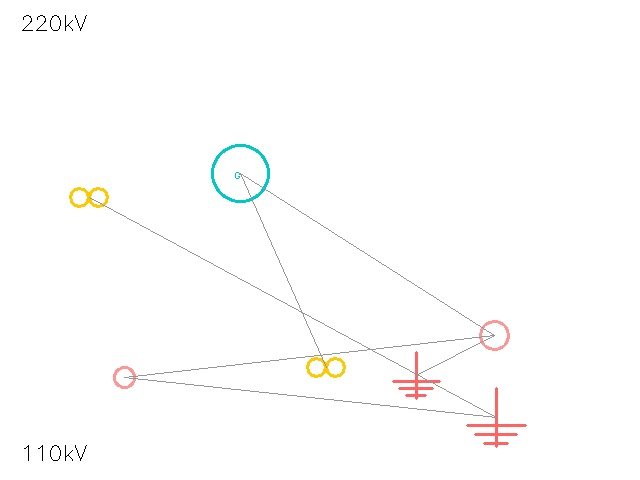current_transformer: (465, 306, 523, 364)
generator: (212, 145, 268, 201)
ground: (467, 388, 525, 446), (393, 352, 439, 398)
transformer_2w: (66, 174, 112, 220), (303, 344, 349, 390)
voltage_transformer: (103, 356, 145, 398)
